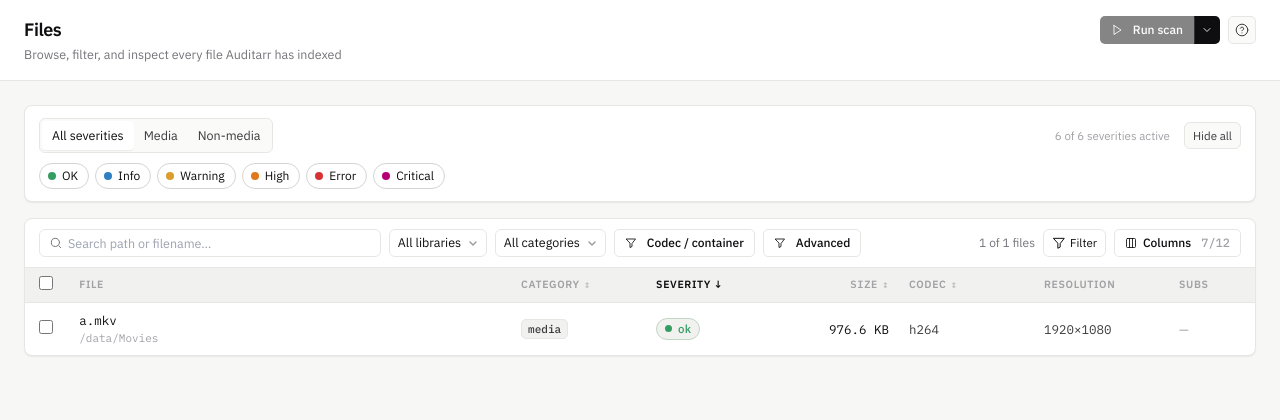
it: OptimizeProfilePicker Stage 28 › popover dismisses after a profile is chosen
Expected: the text "a.mkv" is shown, [79, 311, 117, 330]
Click the checkbox named "Select a.mkv": (46, 326) [39, 320, 53, 334]
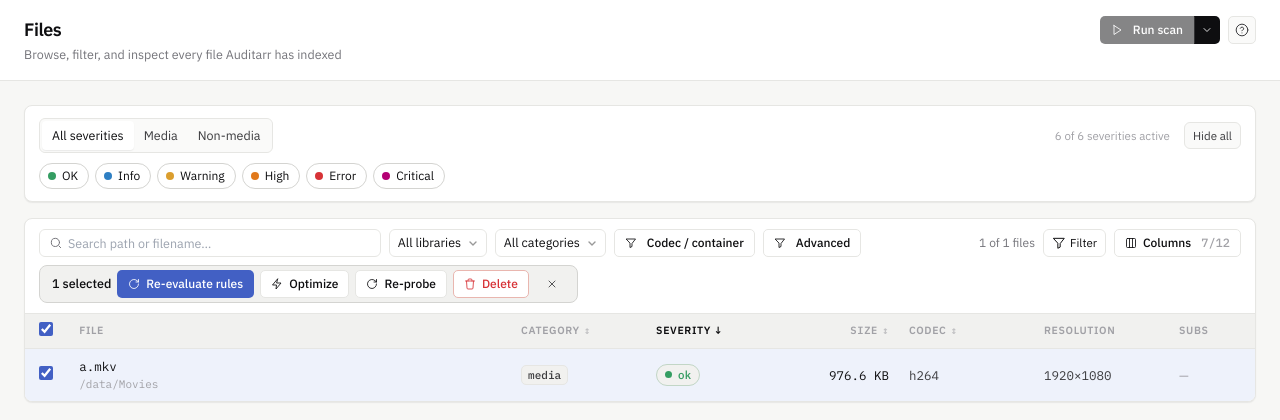
Now the button "Optimize" is enabled
Click the button "Optimize": (305, 284) [260, 270, 350, 298]
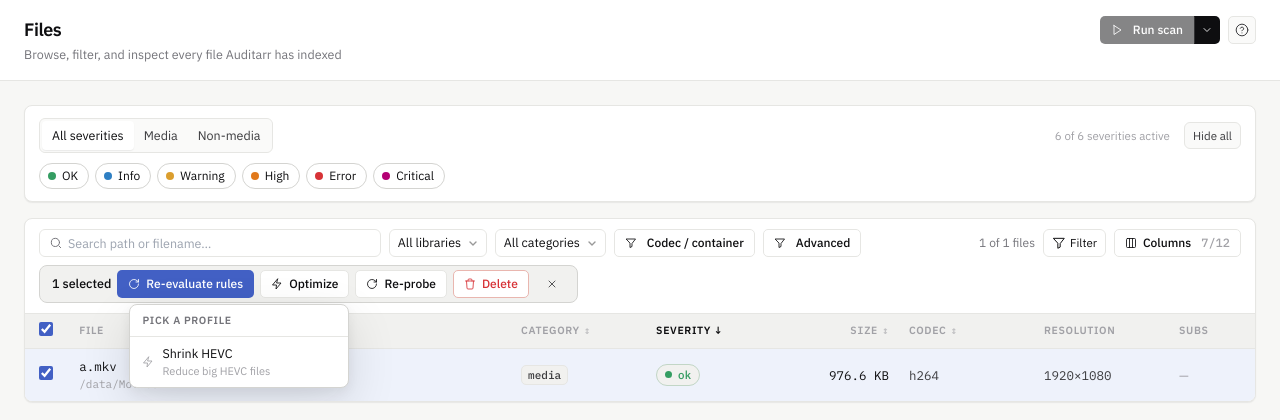
Click the menu item "Shrink HEVC Reduce big HEVC files": (240, 362) [130, 337, 348, 387]
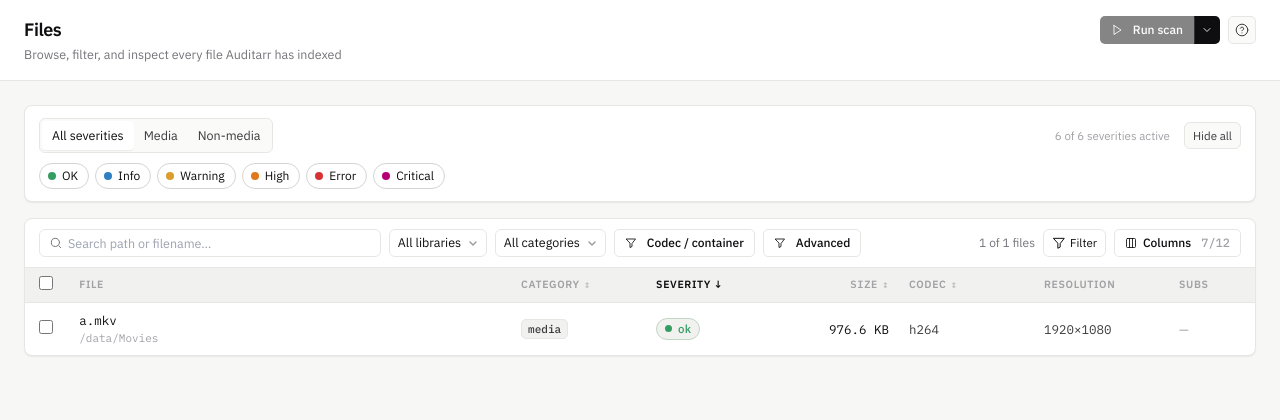
Now the menu is gone
